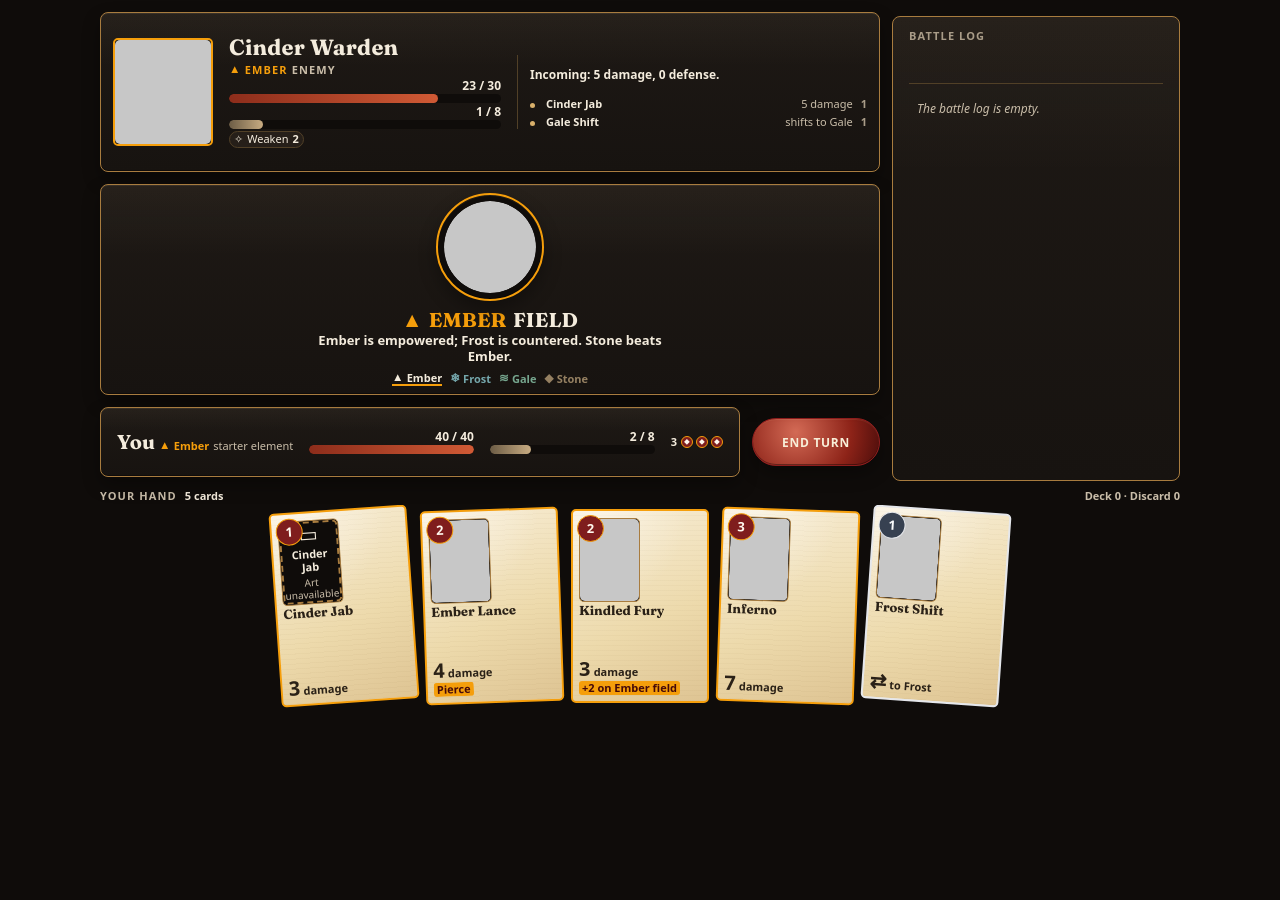
Test: BattleBoard manifest images › shows a labelled fallback and keeps the board playable
Expected: the picture named "Cinder Jab, Ember attack, 3 damage. Art unavailable." shows "Cinder Jab", [291, 545, 328, 575]
Expected: the picture named "Cinder Jab, Ember attack, 3 damage. Art unavailable." shows "Art unavailable", [285, 574, 340, 603]
Click the button with aria-label "1 energy, Cinder Jab, Ember attack, 3 damage" at (344, 606), box [268, 504, 420, 708]
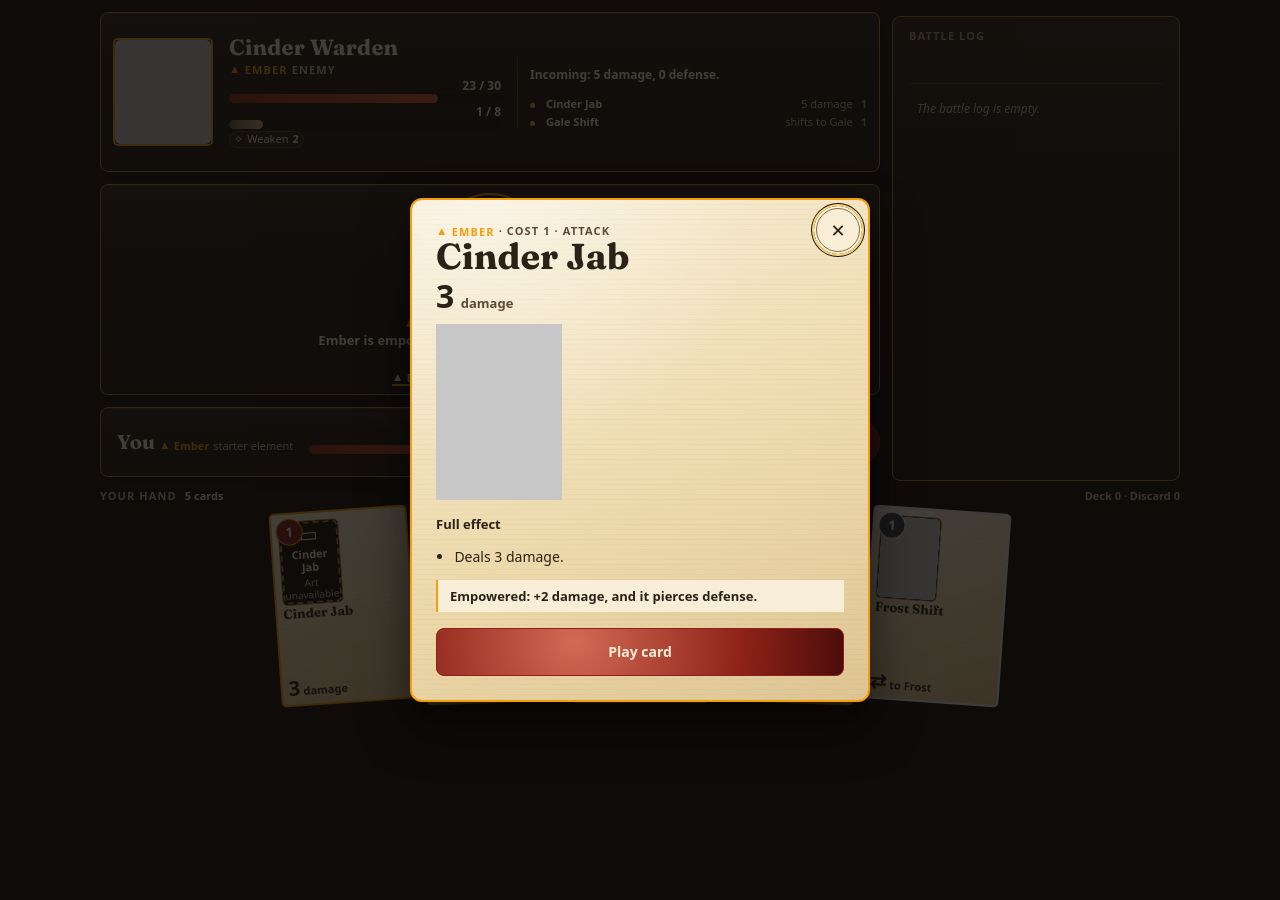
Expected: the dialog "Cinder Jab" is shown, [410, 198, 870, 702]
